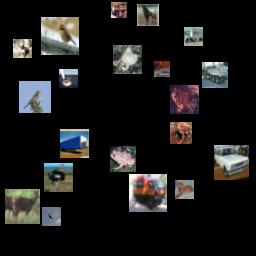airplane: (42, 207, 61, 226)
automobile: (214, 145, 249, 180), (154, 61, 170, 77)
bird: (41, 17, 79, 55), (19, 81, 51, 113), (44, 163, 73, 192)
cat: (113, 45, 142, 74)
deer: (5, 189, 40, 224), (13, 39, 32, 58)
dog: (175, 180, 194, 199)
frog: (170, 85, 199, 114), (110, 146, 136, 172), (170, 122, 192, 144)
ship: (59, 69, 78, 88)
truck: (129, 174, 167, 212), (60, 129, 89, 158), (202, 62, 228, 88), (184, 27, 203, 46), (111, 2, 127, 18)
